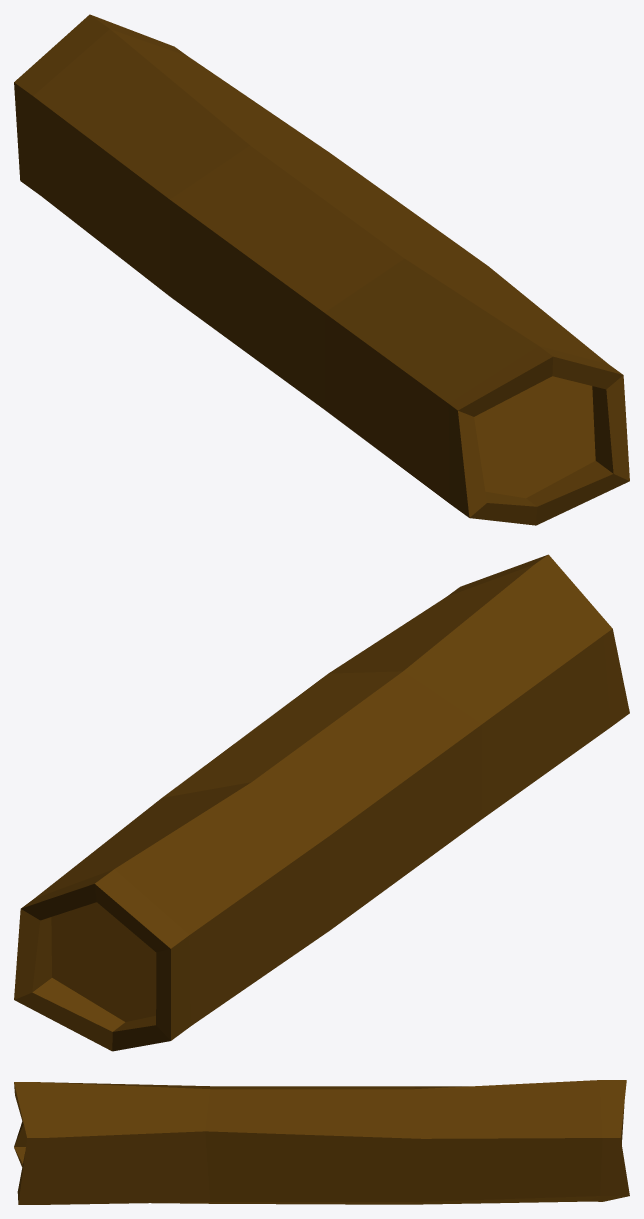
Rendered from Log Bench 3.fbx.
The picture shows the model from 3 angles, top to bottom: view 1: azimuth 30°, elevation 25°; view 2: azimuth 150°, elevation 25°; view 3: azimuth 270°, elevation 25°; orthographic projection. The views are drawn at different scales.
Visible parts, largest first — view 1: Bench 1; view 2: Bench 1; view 3: Bench 1.
Boxes of the visible parts, x1,y1,x2,y2 form: Bench 1: [14, 14, 629, 525]; Bench 1: [14, 554, 629, 1051]; Bench 1: [14, 1080, 629, 1204].
Size of the model in its own units: 183 by 195 by 870.
